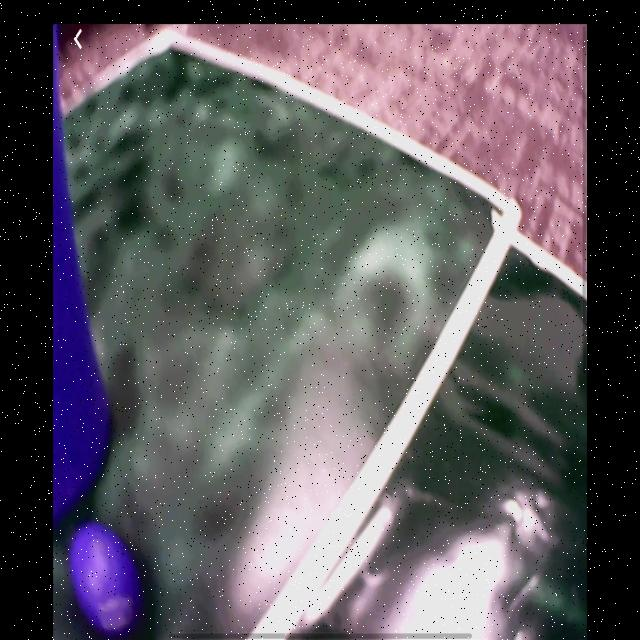ball: (69, 524, 141, 633)
